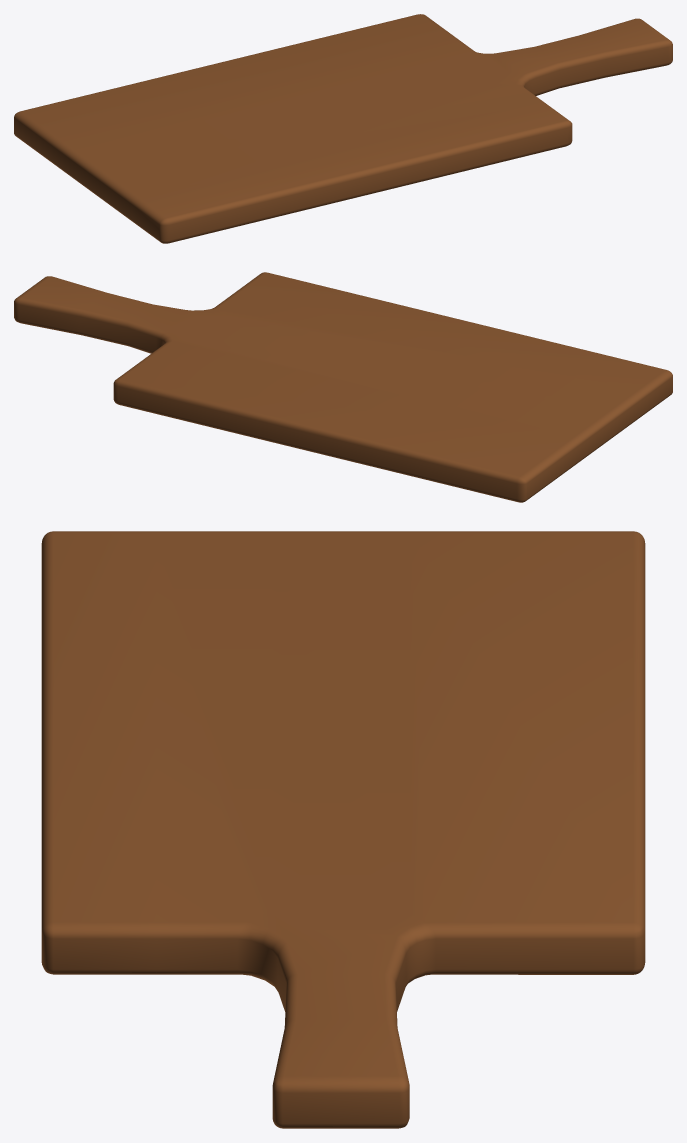
File: tabla3.fbx
3 views of the same model, one above another, from view 1: azimuth 30°, elevation 25°; view 2: azimuth 150°, elevation 25°; view 3: azimuth 270°, elevation 25° (orthographic). The views are drawn at different scales.
Parts seen in each view (by area): view 1: tabla3; view 2: tabla3; view 3: tabla3.
Boxes of the visible parts, bbox=[...] form: tabla3: bbox=[14, 14, 672, 243]; tabla3: bbox=[14, 272, 672, 502]; tabla3: bbox=[41, 531, 645, 1128].
Size of the model in its own units: 106 by 4.47 by 48.5.
